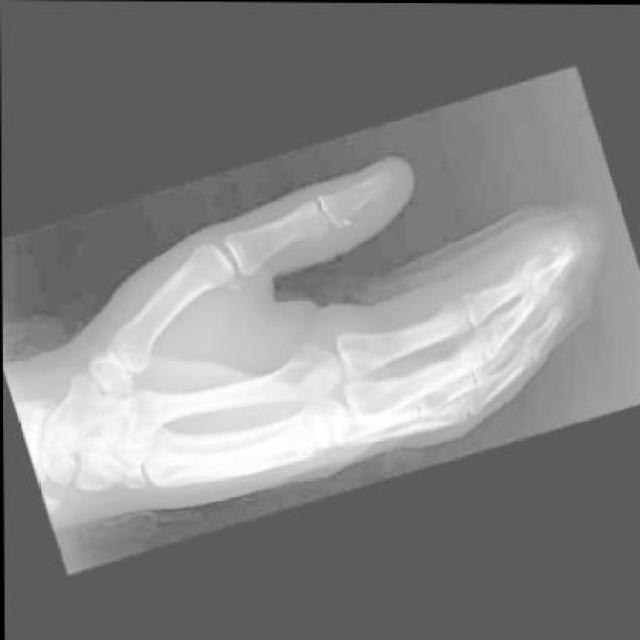Fracture: (519, 239, 584, 290)
